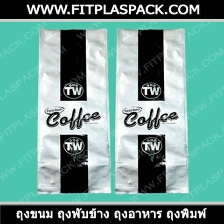snack: (110, 23, 192, 197), (32, 24, 114, 198)
